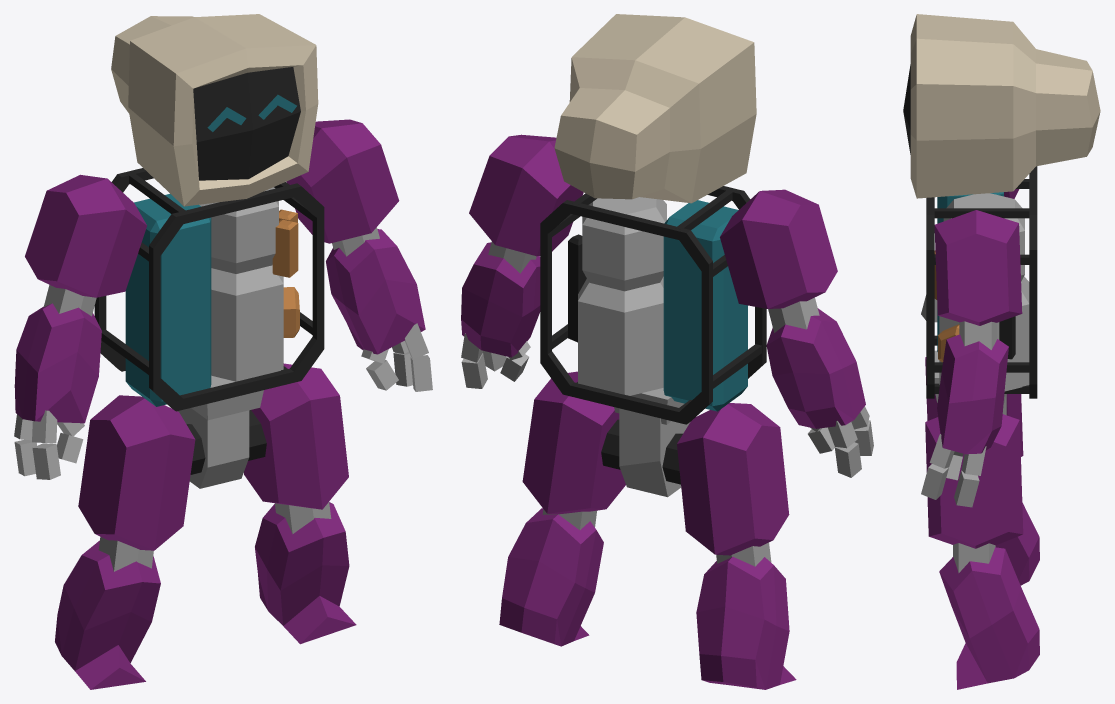
File: friend_whole.fbx
3 views of the same model, side by side, from view 1: azimuth 30°, elevation 25°; view 2: azimuth 150°, elevation 25°; view 3: azimuth 270°, elevation 25° (orthographic). The views are drawn at different scales.
Parts seen in each view (by area): view 1: friend_whole; view 2: friend_whole; view 3: friend_whole.
Part boxes in pixels (x1,y1,x2,y2): friend_whole: (14, 14, 432, 689); friend_whole: (461, 14, 873, 689); friend_whole: (903, 14, 1100, 689).
Size of the model in its own units: 4.84 by 7.33 by 2.21.
